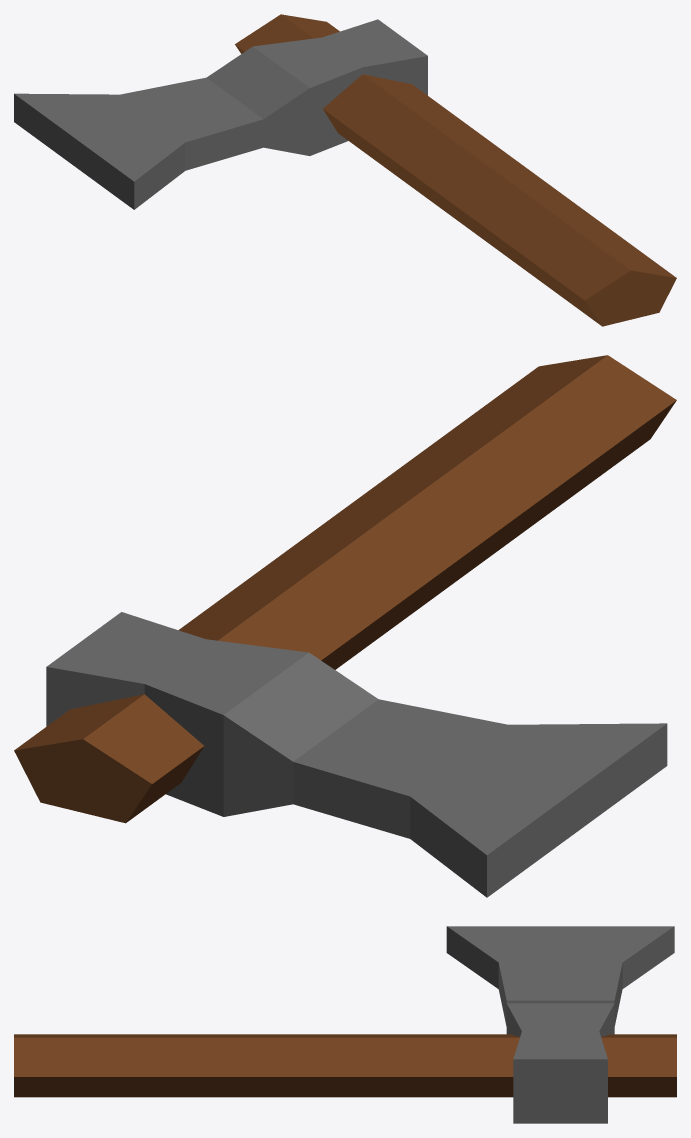
File: hatchet.fbx
3 renders of one model, top to bottom at view 1: azimuth 30°, elevation 25°; view 2: azimuth 150°, elevation 25°; view 3: azimuth 270°, elevation 25°, orthographic. The views are drawn at different scales.
Visible parts, largest first — view 1: Cube, Cylinder; view 2: Cube, Cylinder; view 3: Cylinder, Cube.
Boxes of the visible parts, x1,y1,x2,y2 form: Cube: (14,19,427,209); Cylinder: (235,14,676,326); Cube: (46,612,667,897); Cylinder: (14,355,676,823); Cylinder: (14,1034,676,1097); Cube: (446,926,674,1123).
Bounding box in the file's own units: 679 × 134 × 1251.
